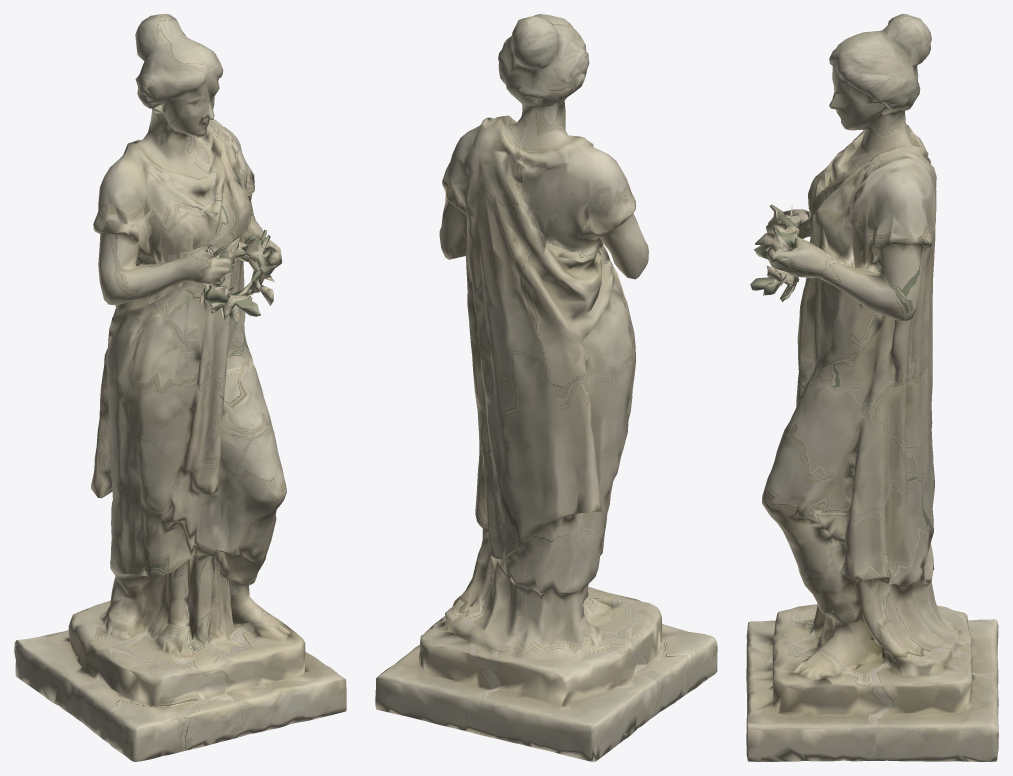
The model's file is statue.glb.
The picture shows the model from 3 angles, left to right: view 1: azimuth 30°, elevation 25°; view 2: azimuth 150°, elevation 25°; view 3: azimuth 270°, elevation 25°; orthographic projection. The views are drawn at different scales.
Parts seen in each view (by area): view 1: tripo_node_ee9d2fcc-fefb-4d16-9e9e-5cf35cdb1678; view 2: tripo_node_ee9d2fcc-fefb-4d16-9e9e-5cf35cdb1678; view 3: tripo_node_ee9d2fcc-fefb-4d16-9e9e-5cf35cdb1678.
Part boxes in pixels (x1,y1,x2,y2): tripo_node_ee9d2fcc-fefb-4d16-9e9e-5cf35cdb1678: (14, 14, 346, 761); tripo_node_ee9d2fcc-fefb-4d16-9e9e-5cf35cdb1678: (375, 14, 717, 761); tripo_node_ee9d2fcc-fefb-4d16-9e9e-5cf35cdb1678: (746, 14, 998, 761).
Bounding box in the file's own units: 0.3356 × 1 × 0.3312.
Materials: 1 (1 with a texture image).
